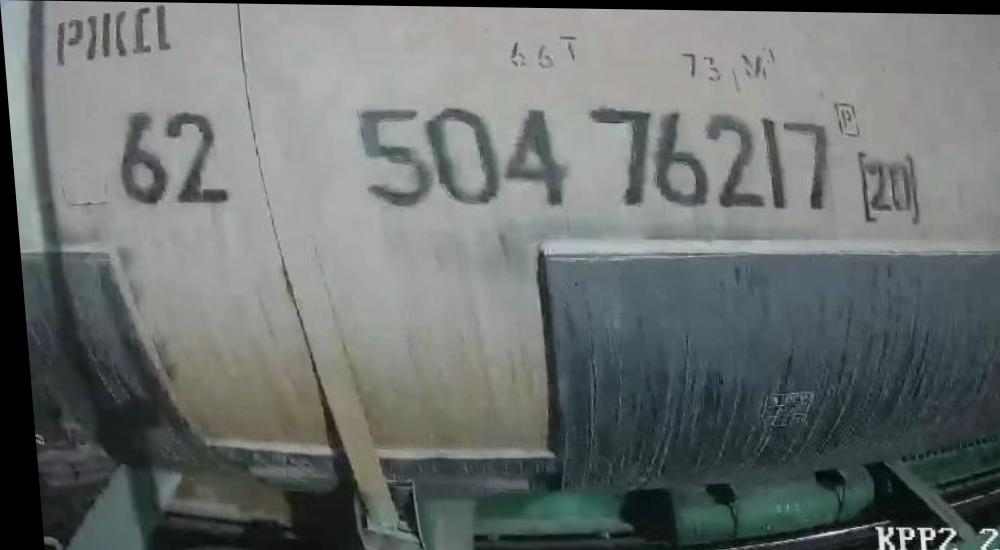Wagon-number: (347, 97, 842, 221)
